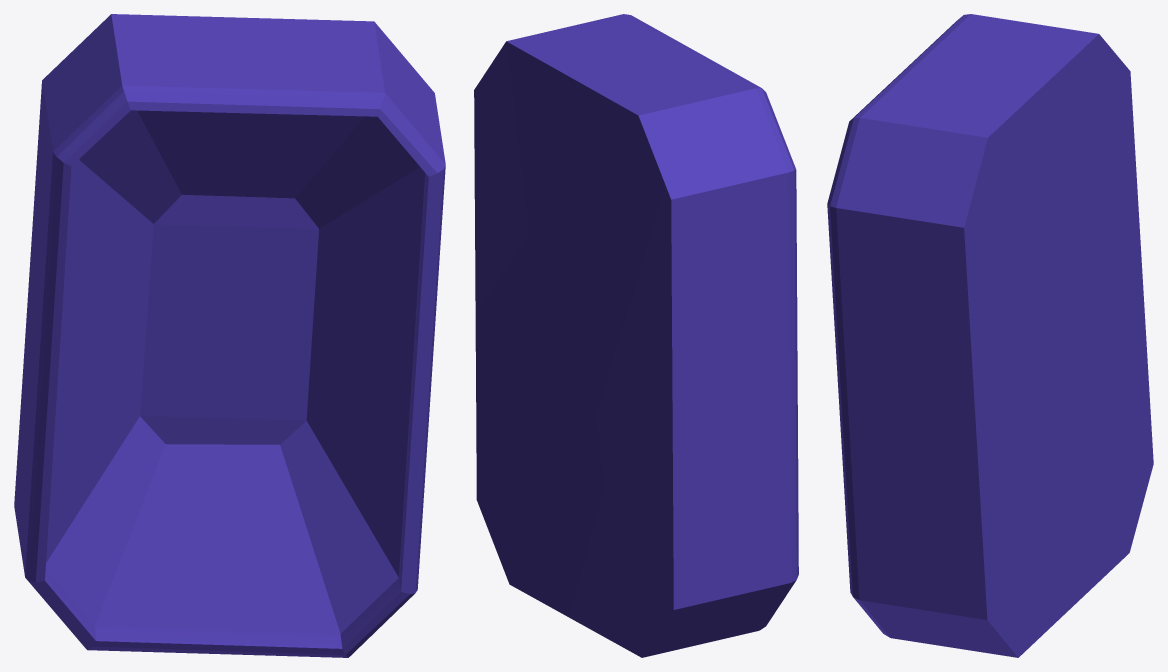
Rendered from TL2_8shapes_Emerald_Classic_Metal.001 3.glb.
3 views of the same model, side by side, from view 1: azimuth 30°, elevation 25°; view 2: azimuth 150°, elevation 25°; view 3: azimuth 270°, elevation 25° (orthographic). The views are drawn at different scales.
Visible parts, largest first — view 1: TL2_8shapes_Emerald_Classic_Metal.001; view 2: TL2_8shapes_Emerald_Classic_Metal.001; view 3: TL2_8shapes_Emerald_Classic_Metal.001.
Part boxes in pixels (x1=…): TL2_8shapes_Emerald_Classic_Metal.001: x1=14, y1=14, x2=445, y2=657; TL2_8shapes_Emerald_Classic_Metal.001: x1=474, y1=14, x2=798, y2=657; TL2_8shapes_Emerald_Classic_Metal.001: x1=827, y1=14, x2=1153, y2=657.
Bounding box in the file's own units: 0.4574 × 0.6837 × 0.3694.
